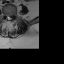CCS_normal: (8, 12, 10, 22)
LFS_stenosis: (12, 12, 14, 18)
LLS_normal: (10, 13, 12, 21)
RFS_stenosis: (4, 12, 6, 18)
RLS_normal: (6, 12, 8, 20)
